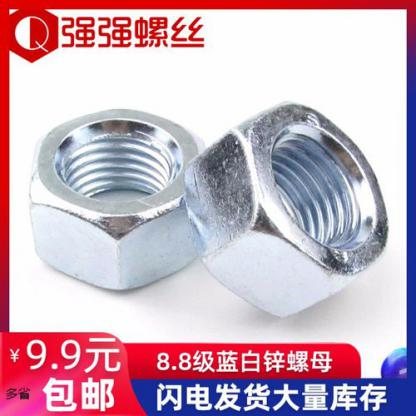FOD: (181, 99, 389, 318), (20, 108, 212, 292)
